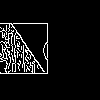O: (24, 25, 100, 81)
